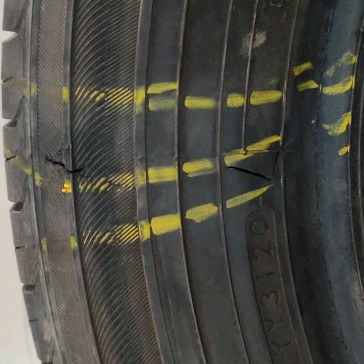cut: (224, 165, 270, 183), (47, 161, 90, 174)
